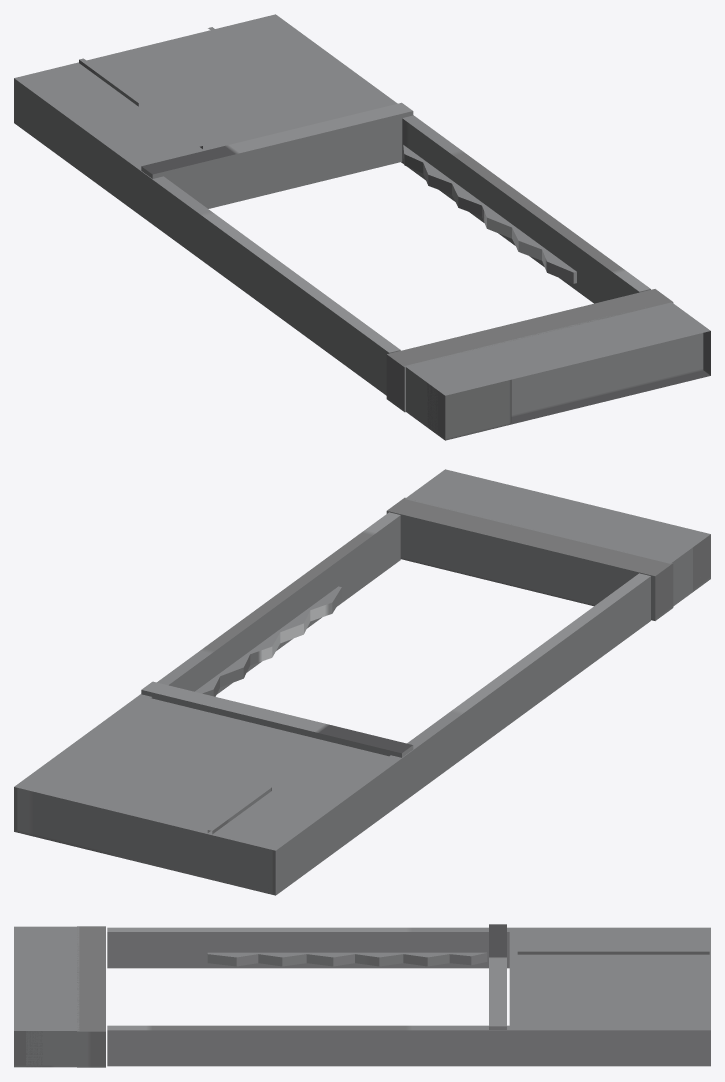
3 views of the same model, one above another, from view 1: azimuth 30°, elevation 25°; view 2: azimuth 150°, elevation 25°; view 3: azimuth 270°, elevation 25° (orthographic). The views are drawn at different scales.
Bounding box in the file's own units: 0.876 × 0.154 × 2.45.
